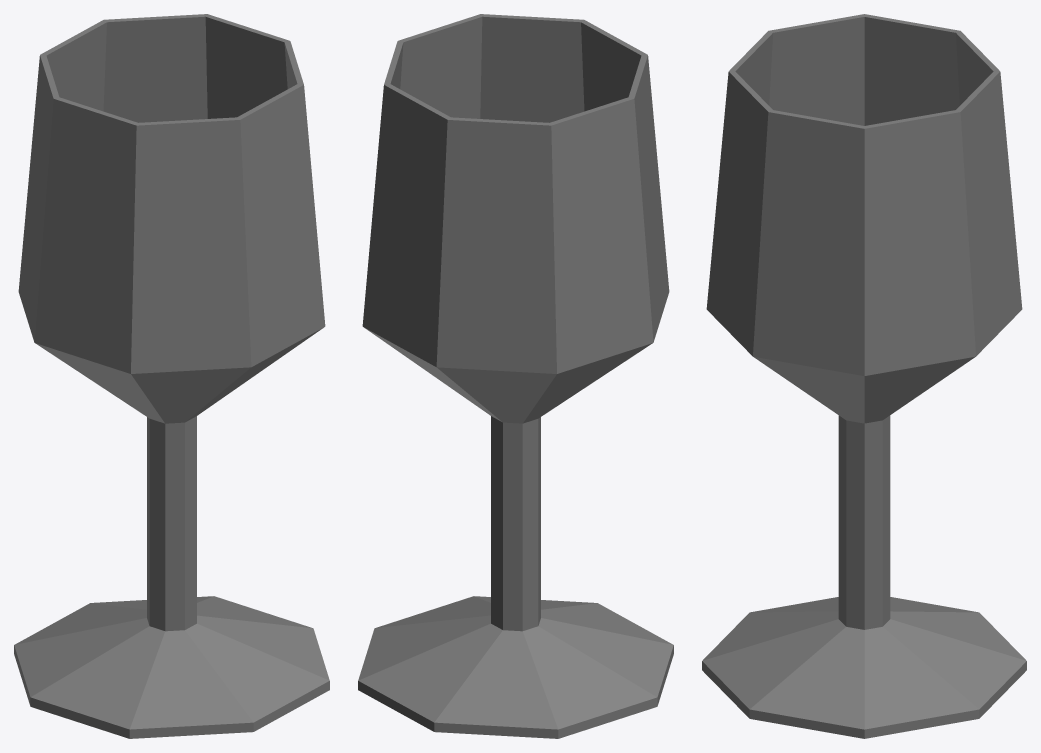
Rendered from tablecupwineglass01.gltf.
The picture shows the model from 3 angles, left to right: view 1: azimuth 30°, elevation 25°; view 2: azimuth 150°, elevation 25°; view 3: azimuth 270°, elevation 25°; orthographic projection.
Visible parts, largest first — view 1: Cylinder; view 2: Cylinder; view 3: Cylinder.
Boxes of the visible parts, x1=… form: Cylinder: x1=14, y1=14, x2=329, y2=738; Cylinder: x1=358, y1=14, x2=673, y2=738; Cylinder: x1=702, y1=14, x2=1026, y2=738.
Bounding box in the file's own units: 0.074 × 0.1504 × 0.074.
Materials: 1 (1 with a texture image).
